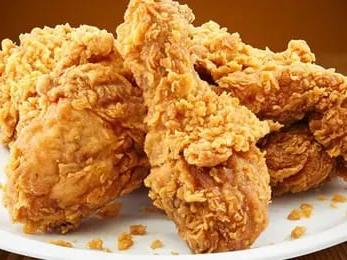Ayam: (104, 2, 275, 248), (1, 7, 123, 248)
